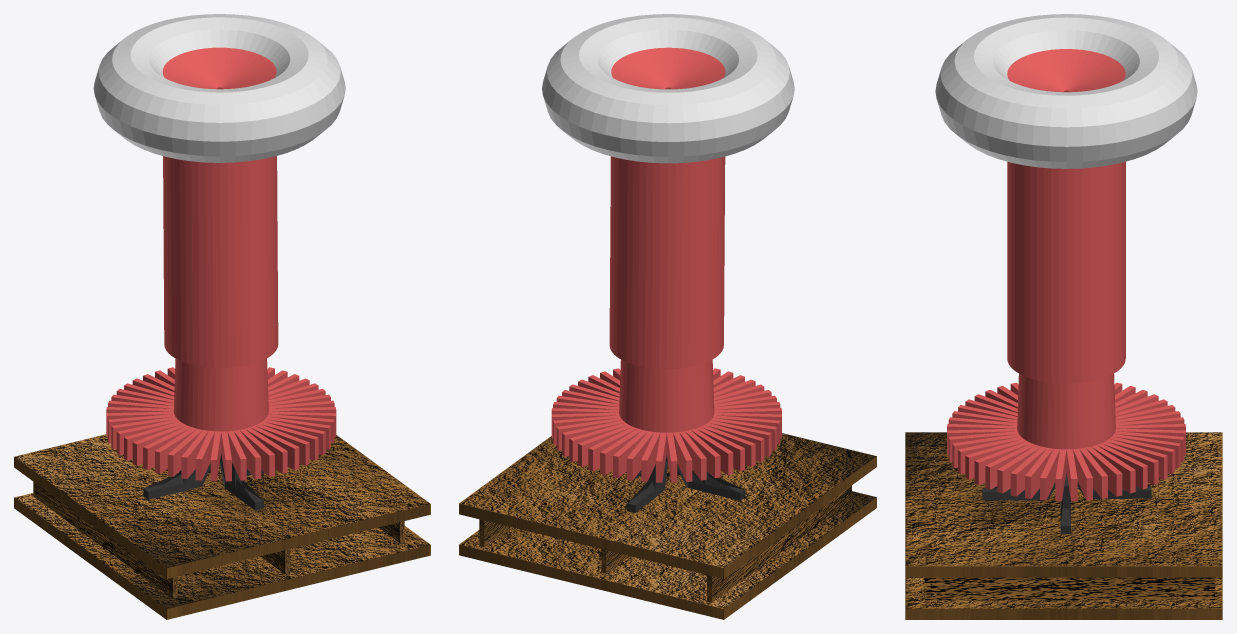
The model's file is Teslav6.fbx.
3 views of the same model, side by side, from view 1: azimuth 30°, elevation 25°; view 2: azimuth 150°, elevation 25°; view 3: azimuth 270°, elevation 25° (orthographic). The views are drawn at different scales.
Parts seen in each view (by area): view 1: Torus, Plane, bottomPlane, Cube.004, Cube.001, Cube.002; view 2: Torus, Plane, bottomPlane, Cube.004, Cube.001, Cube; view 3: Torus, Plane, bottomPlane, Cube.005, Cube.002, Cube.003, Cube.
Part boxes in pixels (left/top/right/bottom): Torus: left=93, top=14, right=345, bottom=481; Plane: left=14, top=434, right=430, bottom=578; bottomPlane: left=14, top=493, right=430, bottom=619; Cube.004: left=33, top=482, right=177, bottom=598; Cube.001: left=143, top=462, right=210, bottom=499; Cube.002: left=219, top=454, right=263, bottom=510; Torus: left=542, top=14, right=794, bottom=482; Plane: left=459, top=433, right=876, bottom=578; bottomPlane: left=459, top=491, right=876, bottom=619; Cube.004: left=707, top=485, right=851, bottom=602; Cube.001: left=677, top=464, right=745, bottom=500; Cube: left=627, top=455, right=667, bottom=512; Torus: left=935, top=14, right=1197, bottom=501; Plane: left=905, top=432, right=1222, bottom=577; bottomPlane: left=905, top=577, right=1222, bottom=619; Cube.005: left=924, top=577, right=1215, bottom=600; Cube.002: left=982, top=482, right=1055, bottom=500; Cube.003: left=1060, top=472, right=1070, bottom=533; Cube: left=1077, top=482, right=1151, bottom=499.
Size of the model in its own units: 445 by 767 by 445.
10 materials, 4 textured.
